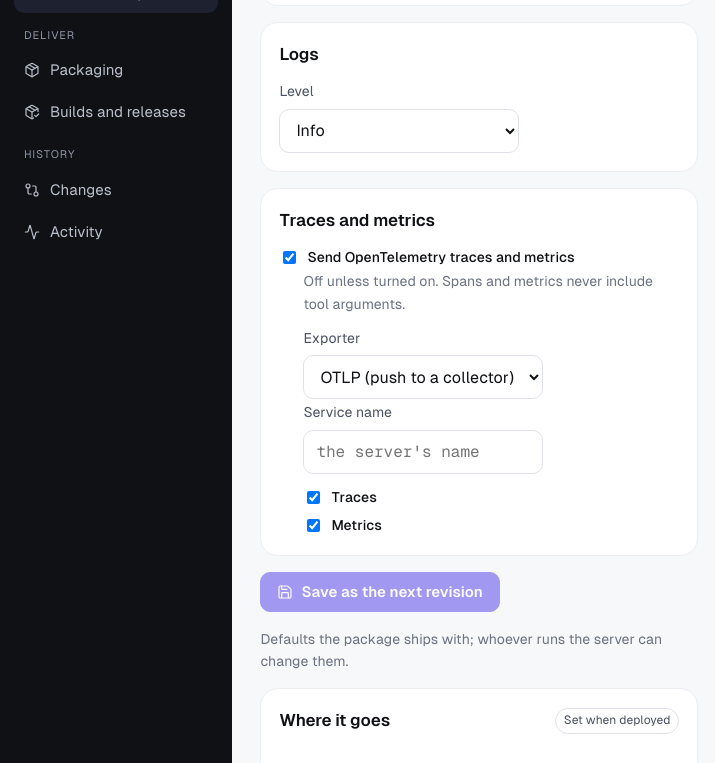
Test: observability › refuses Prometheus for a server that only runs over stdio
The width and height of the screenshot is (715, 763).
(page scrolled)
Select "Prometheus (scrape /metrics; HTTP only)" in the dropdown labelled "Exporter" at x=423, y=377, box [303,355,543,399]
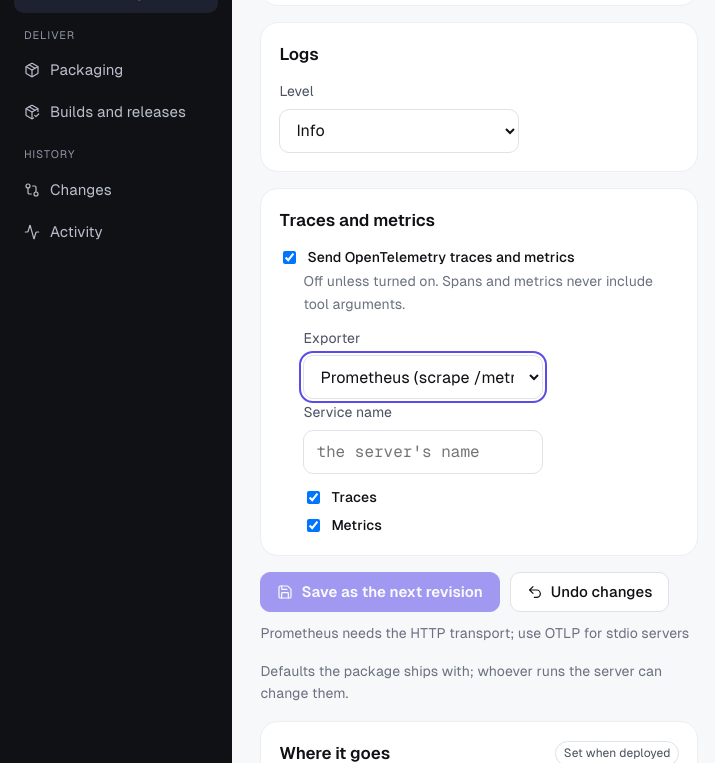
Expected: the button "Save as the next revision" is disabled, [260,572,500,612]
Result: the text "Prometheus needs the HTTP transport; use OTLP for stdio servers" is shown at [260,622,689,644]
